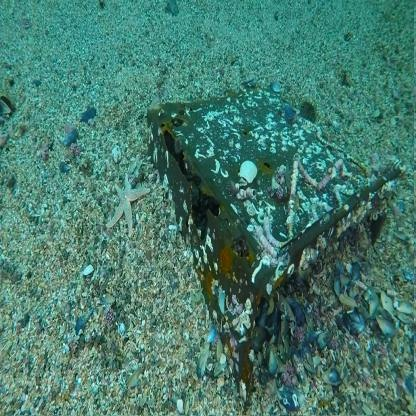electronics: (153, 80, 344, 343)
